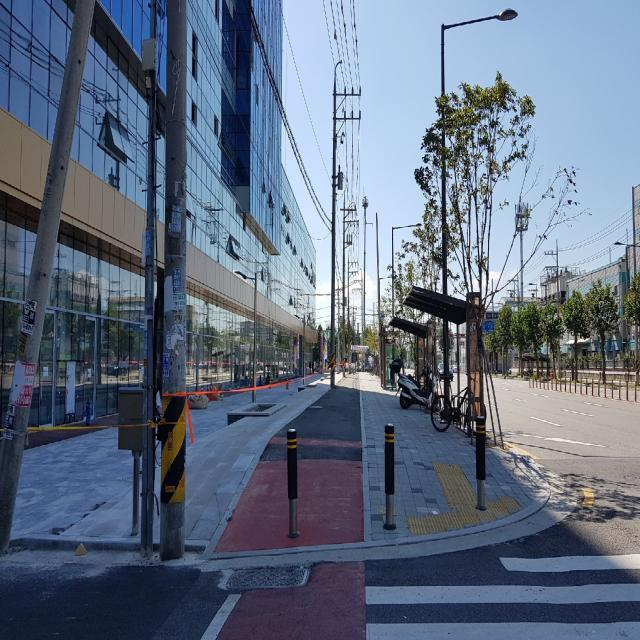횡단보도: (365, 552, 640, 639)
